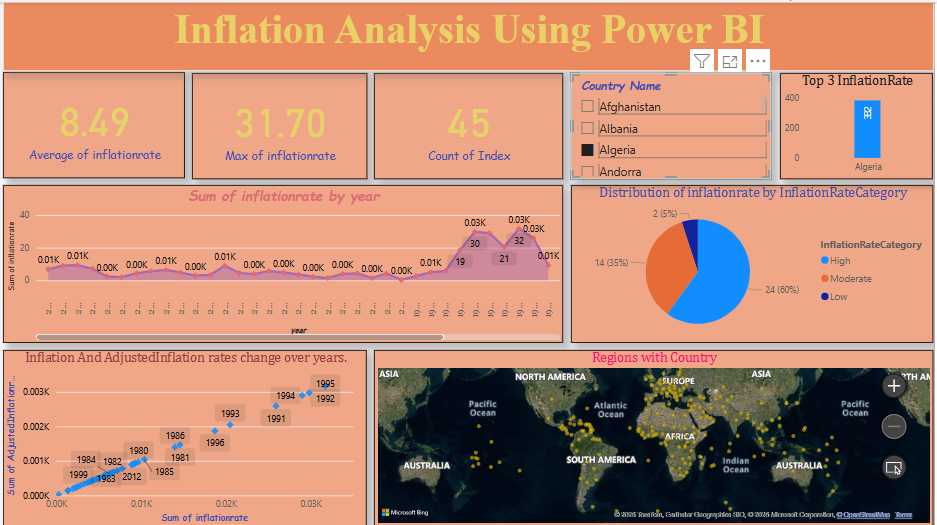

Layout of this report page (visuals, bound fields, positions):
{"tool":"powerbi","page":{"name":"Page 1","canvas":[1280,720],"ordinal":0},"visuals":[{"type":"card","fields":{"Values":["Avg(global_inflation_data.inflationrate)"]},"box":[0,96.2,250.2,145.7],"z":0},{"type":"card","fields":{"Values":["Max(global_inflation_data.inflationrate)"]},"box":[259.8,97.6,240.6,145.7],"z":1000},{"type":"card","fields":{"Values":["Count(global_inflation_data.Index)"]},"box":[510.1,97.6,259.8,145.7],"z":2000},{"type":"stackedAreaChart","fields":{"Y":["Sum(global_inflation_data.inflationrate)"],"Category":["global_inflation_data.year"]},"box":[0,251.6,769.9,217.2],"z":3000},{"type":"textbox","box":[0,0,1280,94.9],"z":4000},{"type":"pieChart","title":"Distribution of inflationrate by InflationRateCategory","fields":{"Category":["global_inflation_data.InflationRateCategory"],"Y":["Count(global_inflation_data.inflationrate)"]},"box":[780.9,251.6,497.7,217.2],"z":5000},{"type":"slicer","fields":{"Values":["global_inflation_data.country_name"]},"box":[780.9,97.6,275,145.7],"z":6000},{"type":"scatterChart","title":"Inflation And AdjustedInflation rates change over years.","fields":{"Category":["global_inflation_data.year"],"X":["Sum(global_inflation_data.inflationrate)"],"Y":["Sum(global_inflation_data.AdjustedInflationrate)"]},"box":[0,478.5,500.5,242],"z":7000},{"type":"map","title":"Regions with Country","fields":{"Category":["all.country","all.region"]},"box":[510.1,478.5,768.5,242],"z":8000},{"type":"columnChart","title":"Top 3 InflationRate","fields":{"Category":["global_inflation_data.country_name"],"Y":["Sum(global_inflation_data.inflationrate)"]},"box":[1068.3,97.6,210.4,145.7],"z":9000}]}

Visuals, with their boxes in screenshot pixels (x1, y1, x2, y2), scaled from the page's 1280x720 canvas onto the 937x525 screenshot:
card - Avg(global_inflation_data.inflationrate): {"left": 0, "top": 70, "right": 183, "bottom": 176}
card - Max(global_inflation_data.inflationrate): {"left": 190, "top": 71, "right": 366, "bottom": 177}
card - Count(global_inflation_data.Index): {"left": 373, "top": 71, "right": 564, "bottom": 177}
stackedAreaChart - Sum(global_inflation_data.inflationrate) x global_inflation_data.year: {"left": 0, "top": 183, "right": 564, "bottom": 342}
textbox: {"left": 0, "top": 0, "right": 936, "bottom": 69}
"Distribution of inflationrate by InflationRateCategory" pieChart: {"left": 572, "top": 183, "right": 936, "bottom": 342}
slicer - global_inflation_data.country_name: {"left": 572, "top": 71, "right": 773, "bottom": 177}
"Inflation And AdjustedInflation rates change over years." scatterChart: {"left": 0, "top": 349, "right": 366, "bottom": 524}
"Regions with Country" map: {"left": 373, "top": 349, "right": 936, "bottom": 524}
"Top 3 InflationRate" columnChart: {"left": 782, "top": 71, "right": 936, "bottom": 177}
